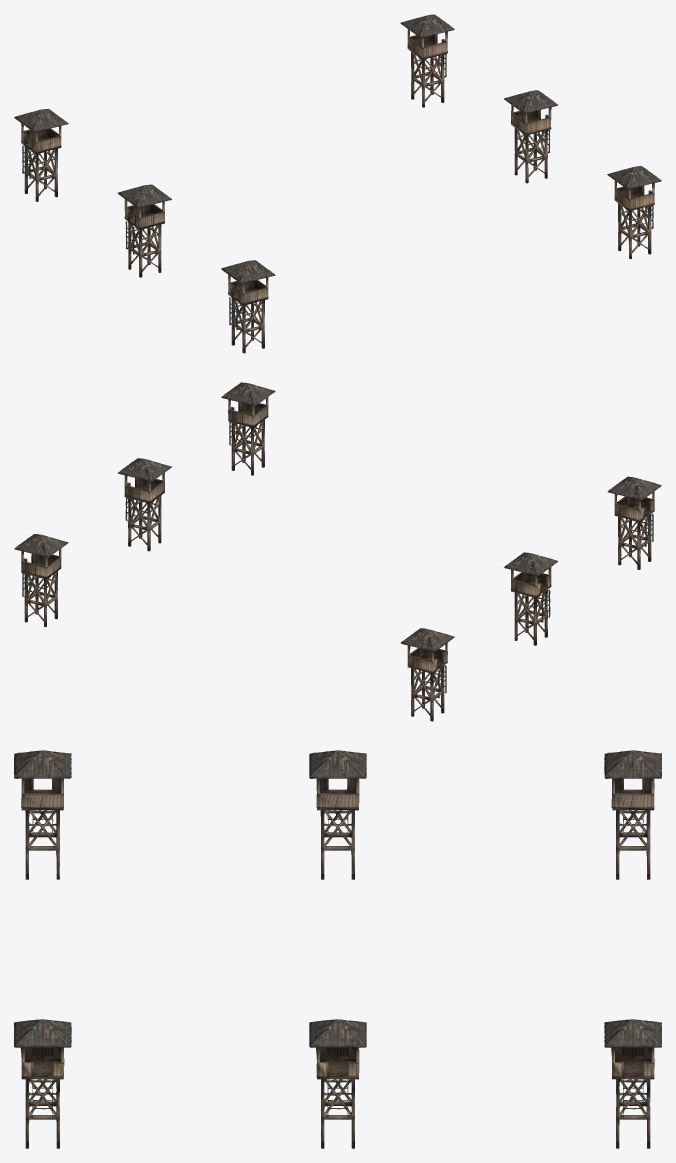
File: torre_low.glb
The picture shows the model from 3 angles, top to bottom: view 1: azimuth 30°, elevation 25°; view 2: azimuth 150°, elevation 25°; view 3: azimuth 270°, elevation 25°; orthographic projection. The views are drawn at different scales.
Parts seen in each view (by area): view 1: torre.001, torre.003, torre.002, torre.005, torre.004, torre.006; view 2: torre.002, torre.003, torre.001, torre.005, torre.006, torre.004; view 3: torre.006, torre.004, torre.005, torre.003, torre.001, torre.002.
Boxes of the visible parts, left/top/right/bottom form: torre.001: left=221, top=260, right=275, bottom=353; torre.003: left=14, top=108, right=68, bottom=201; torre.002: left=117, top=184, right=171, bottom=277; torre.005: left=504, top=90, right=557, bottom=183; torre.004: left=607, top=166, right=661, bottom=258; torre.006: left=400, top=14, right=454, bottom=107; torre.002: left=504, top=552, right=557, bottom=645; torre.003: left=400, top=628, right=454, bottom=721; torre.001: left=607, top=476, right=661, bottom=569; torre.005: left=118, top=458, right=171, bottom=551; torre.006: left=14, top=534, right=68, bottom=627; torre.004: left=221, top=382, right=275, bottom=475; torre.006: left=604, top=1019, right=661, bottom=1148; torre.004: left=14, top=1019, right=71, bottom=1148; torre.005: left=309, top=1019, right=366, bottom=1148; torre.003: left=604, top=750, right=661, bottom=879; torre.001: left=14, top=750, right=71, bottom=879; torre.002: left=309, top=750, right=366, bottom=879.
Size of the model in its own units: 42.19 by 8.2 by 39.4.
Materials: 1 (1 with a texture image).
